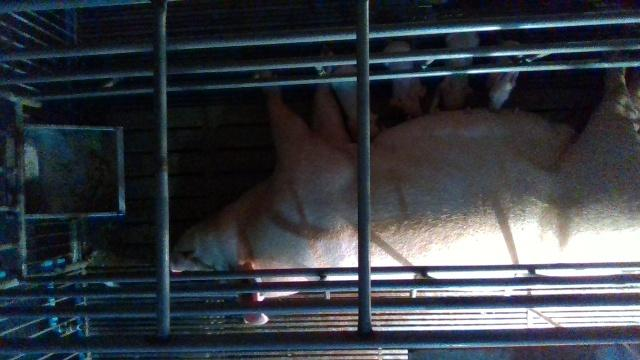piglet: (333, 67, 381, 142), (381, 41, 425, 118), (437, 33, 479, 108), (487, 41, 523, 110)
sow-sleep-lactate: (173, 67, 640, 326)
